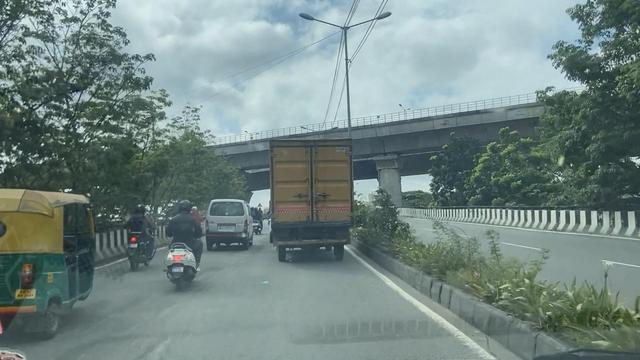LMV: (0, 189, 106, 360), (271, 141, 353, 259), (169, 197, 202, 280), (121, 202, 151, 271), (209, 200, 246, 254)
RoadDamages: (121, 328, 197, 360)
